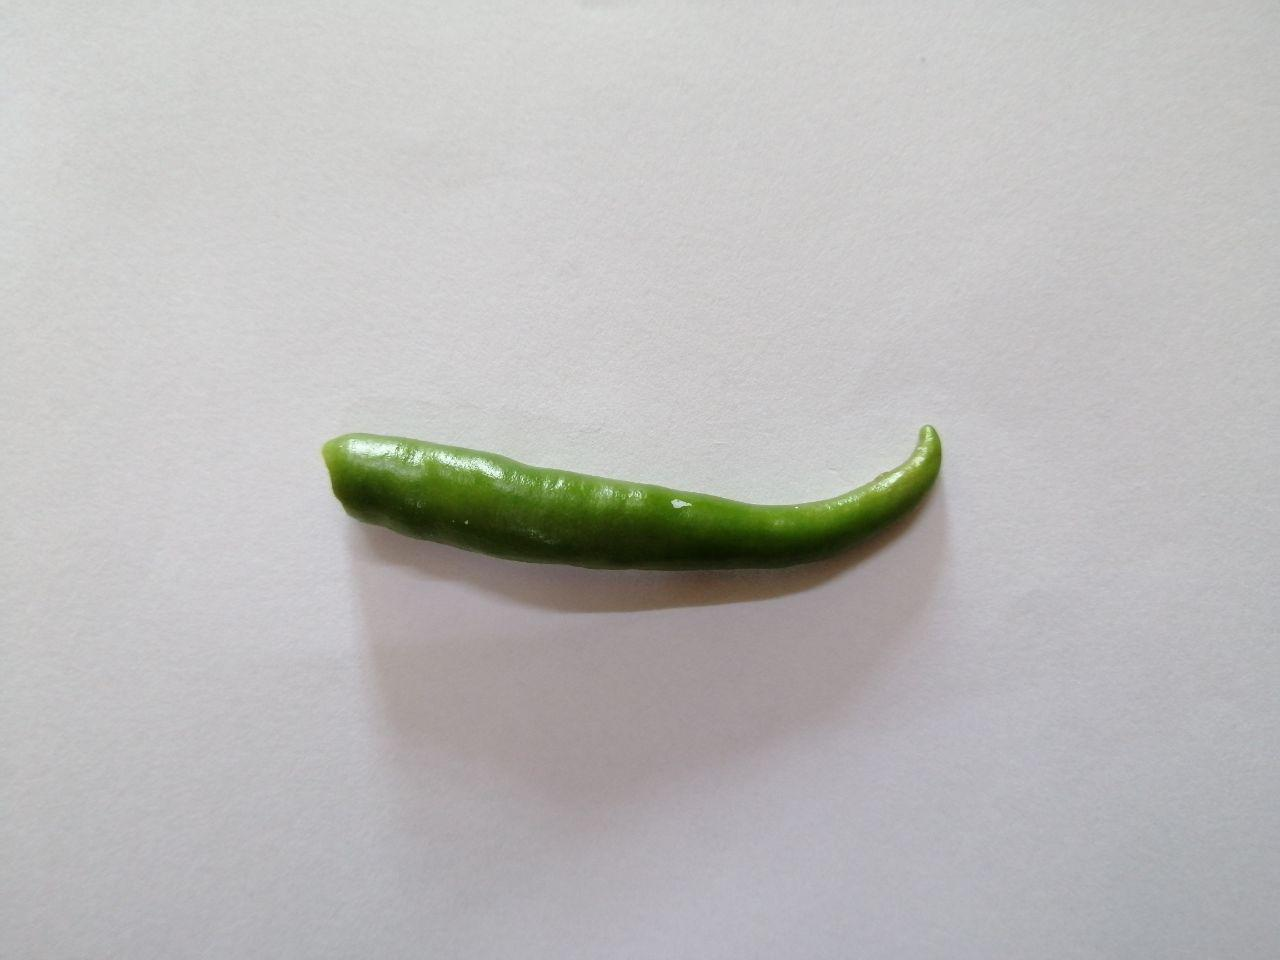lada hijau: (290, 378, 962, 631)
